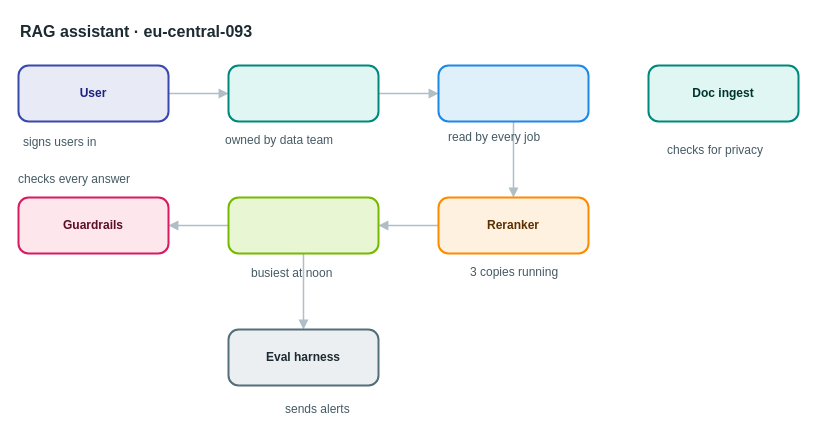
The diagram is 822 pixels wide and 434 high, and some of its shapes have lost their labels. The centre of each missing label's shape, as x and y in pixels:
Nemotron: (x=303, y=225)
Retriever: (x=303, y=93)
Vector DB: (x=513, y=93)
